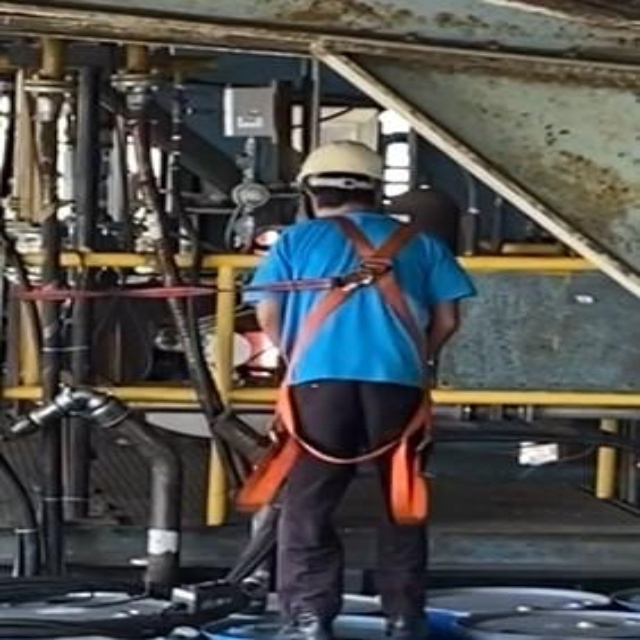Arnes_seguridad: (276, 210, 433, 525)
